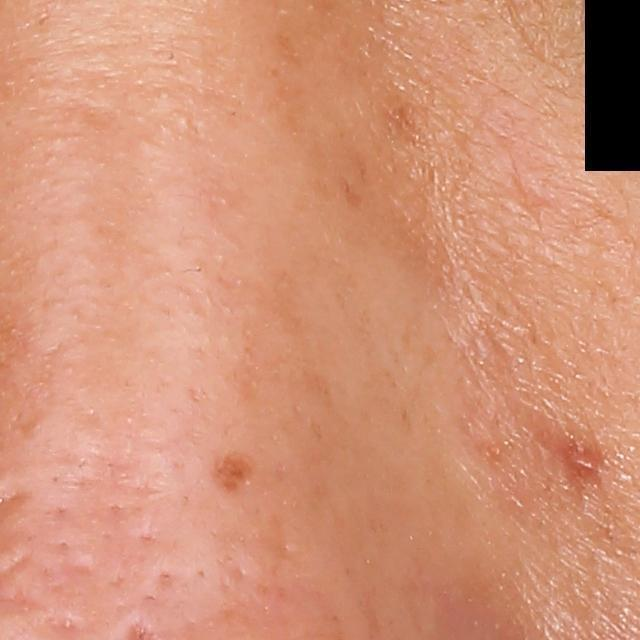melasma: (377, 90, 436, 156), (210, 454, 267, 501), (336, 171, 367, 210)
